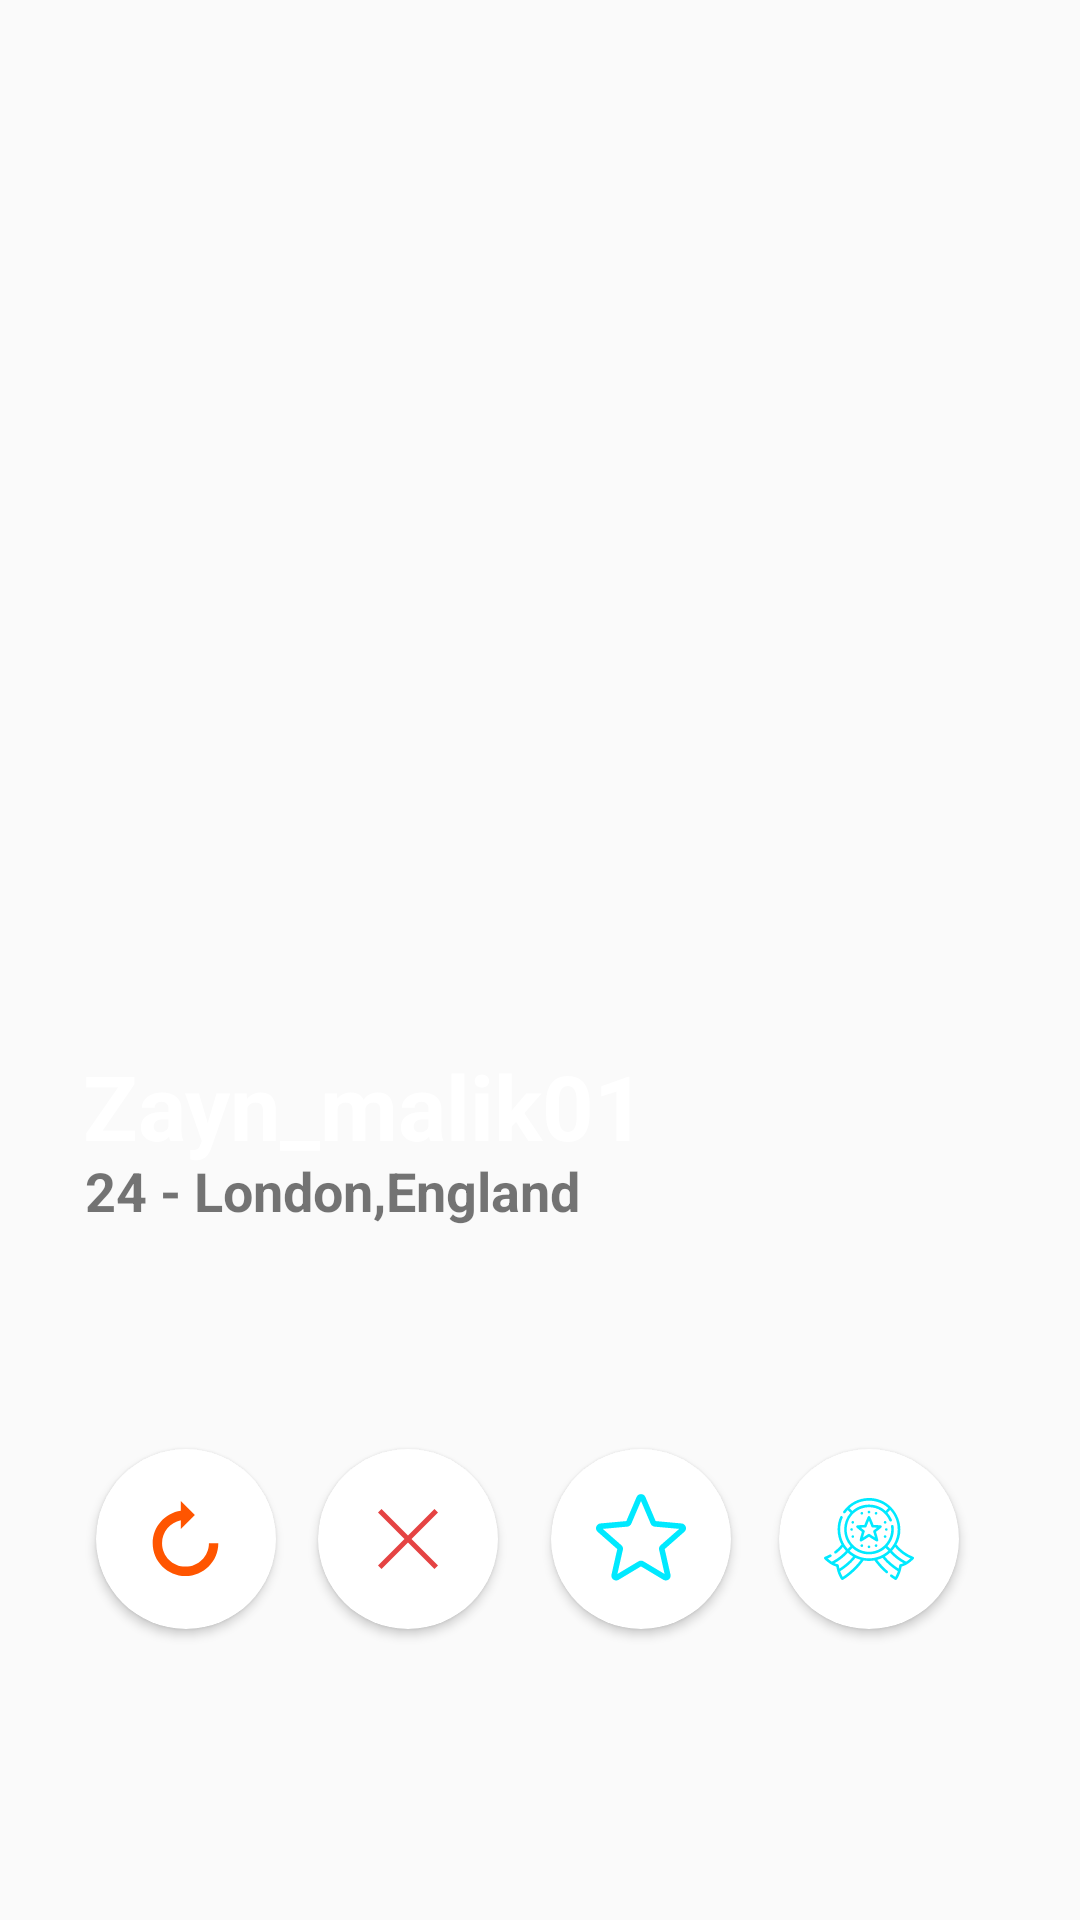

Where to tap for icons on this 1080w x 1920h app screen, as [x,y]:
close: [408,1539]
medal: [869,1539]
refresh: [185,1538]
star: [641,1537]
